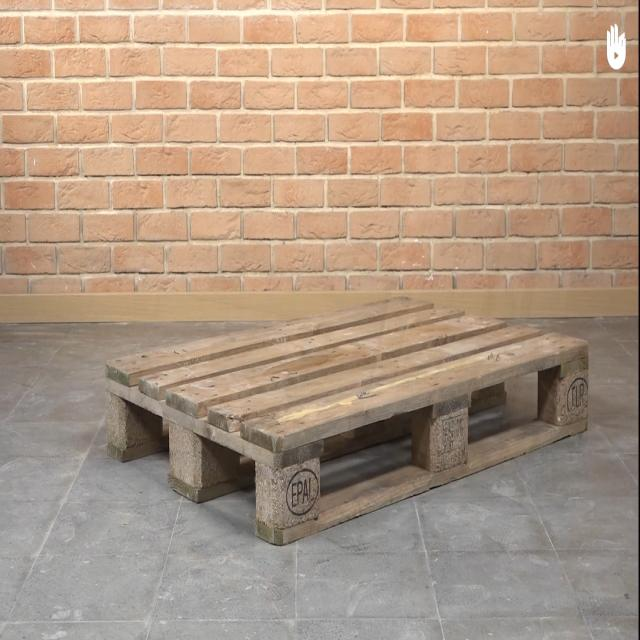Palette: (100, 292, 589, 558)
